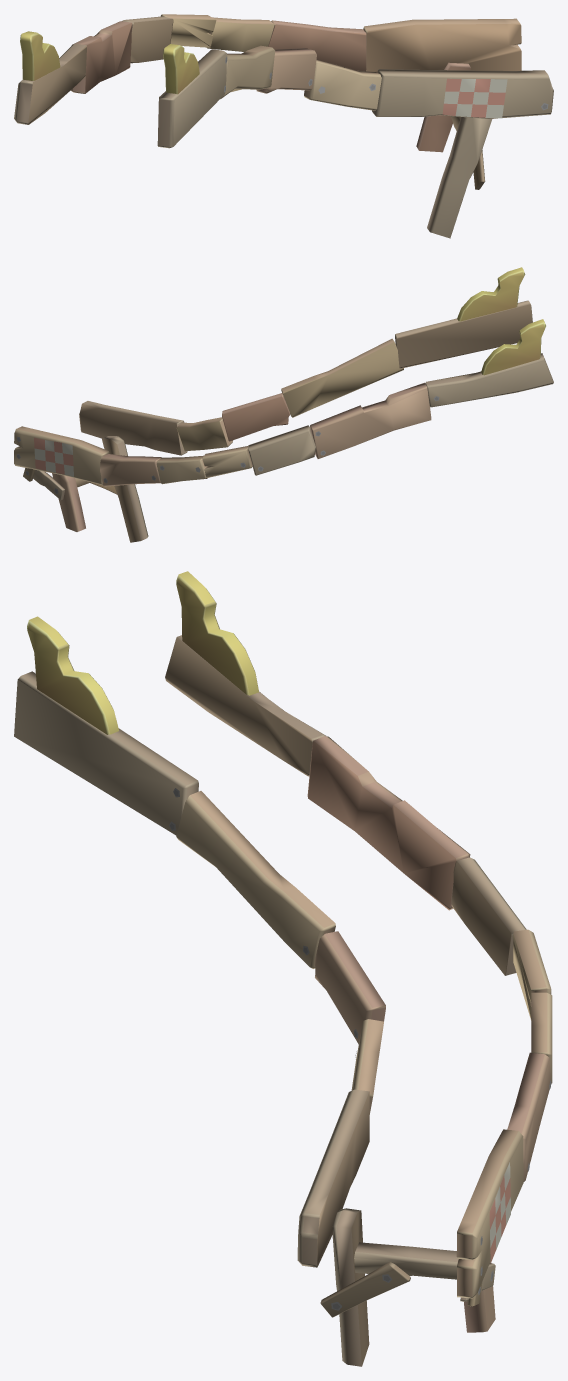
Rendered from SlideWoodFrame.glb.
The picture shows the model from 3 angles, top to bottom: view 1: azimuth 30°, elevation 25°; view 2: azimuth 150°, elevation 25°; view 3: azimuth 270°, elevation 25°; orthographic projection. The views are drawn at different scales.
Parts seen in each view (by area): view 1: SlideWoodFrame; view 2: SlideWoodFrame; view 3: SlideWoodFrame.
Part boxes in pixels (x1,y1,x2,y2): SlideWoodFrame: (14, 14, 553, 238); SlideWoodFrame: (14, 267, 553, 542); SlideWoodFrame: (14, 571, 552, 1366).
Size of the model in its own units: 11.09 by 6.48 by 6.46.
